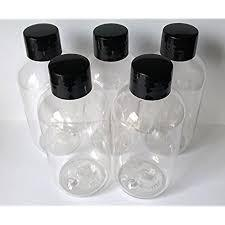Container for household chemicals: (12, 21, 208, 205)
